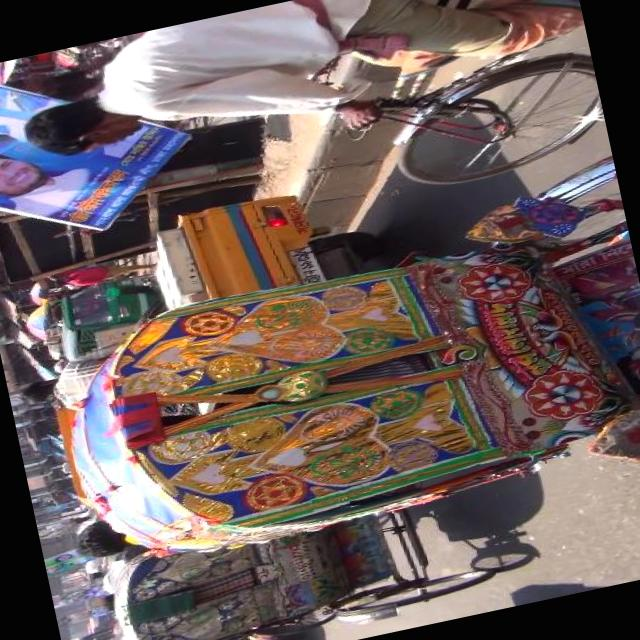motorcycle: (21, 151, 640, 588), (94, 457, 508, 640), (49, 267, 168, 360)
